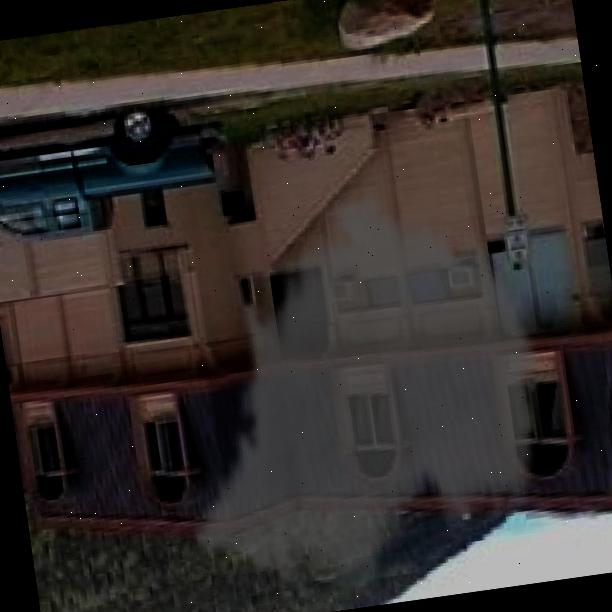smoke: (145, 157, 571, 612)
